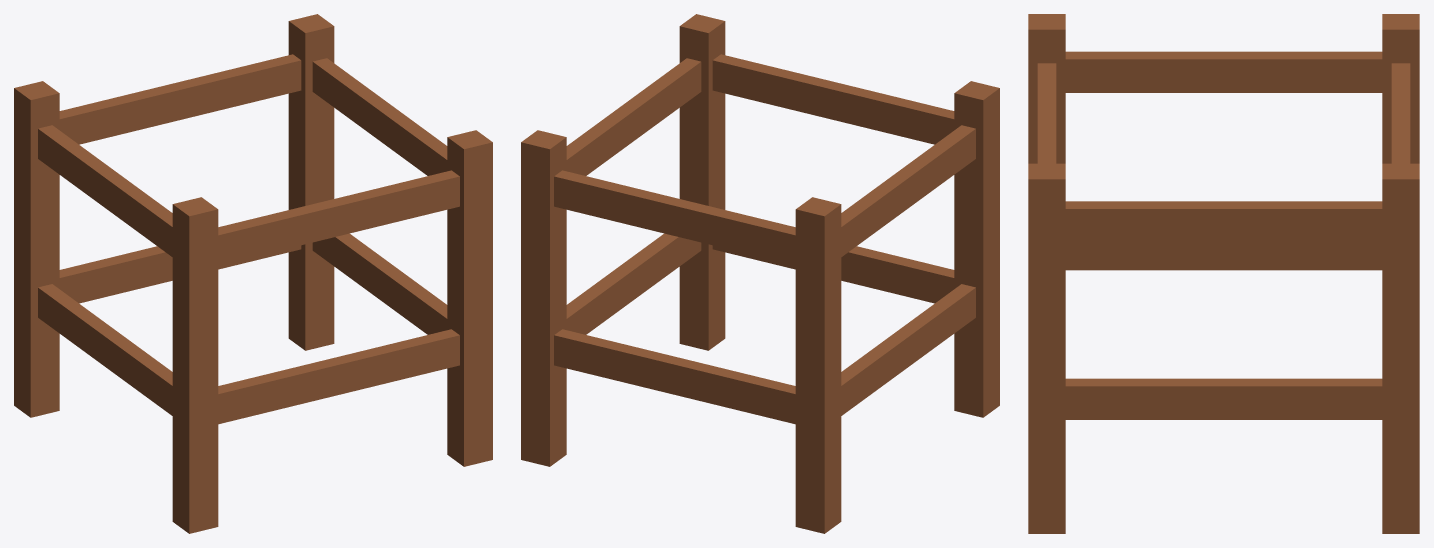
Rendered from ObstacleHighTileFlat.obj.
3 views of the same model, side by side, from view 1: azimuth 30°, elevation 25°; view 2: azimuth 150°, elevation 25°; view 3: azimuth 270°, elevation 25° (orthographic). The views are drawn at different scales.
Visible parts, largest first — view 1: woodStructure_high.004_woodStructure_high.006; view 2: woodStructure_high.004_woodStructure_high.006; view 3: woodStructure_high.004_woodStructure_high.006.
Boxes of the visible parts, <box> form: woodStructure_high.004_woodStructure_high.006: <box>14,14,492,533</box>; woodStructure_high.004_woodStructure_high.006: <box>521,14,999,533</box>; woodStructure_high.004_woodStructure_high.006: <box>1028,14,1419,533</box>.
Bounding box in the file's own units: 1 × 1 × 1.
